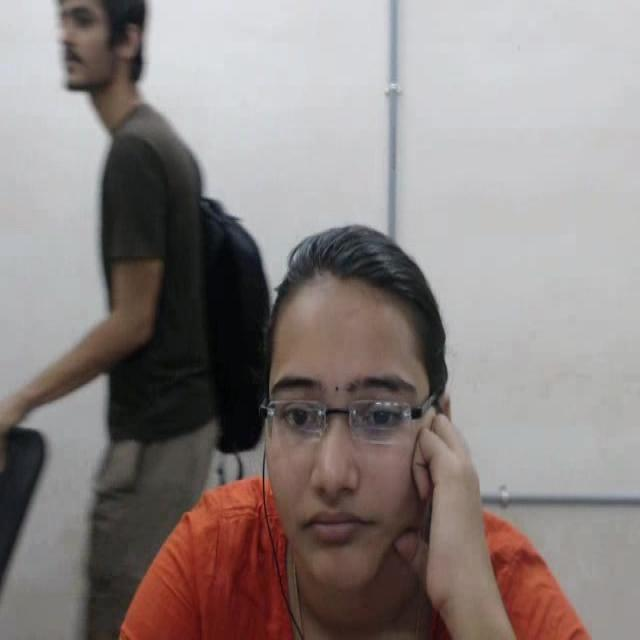Bored: (230, 208, 538, 614)
